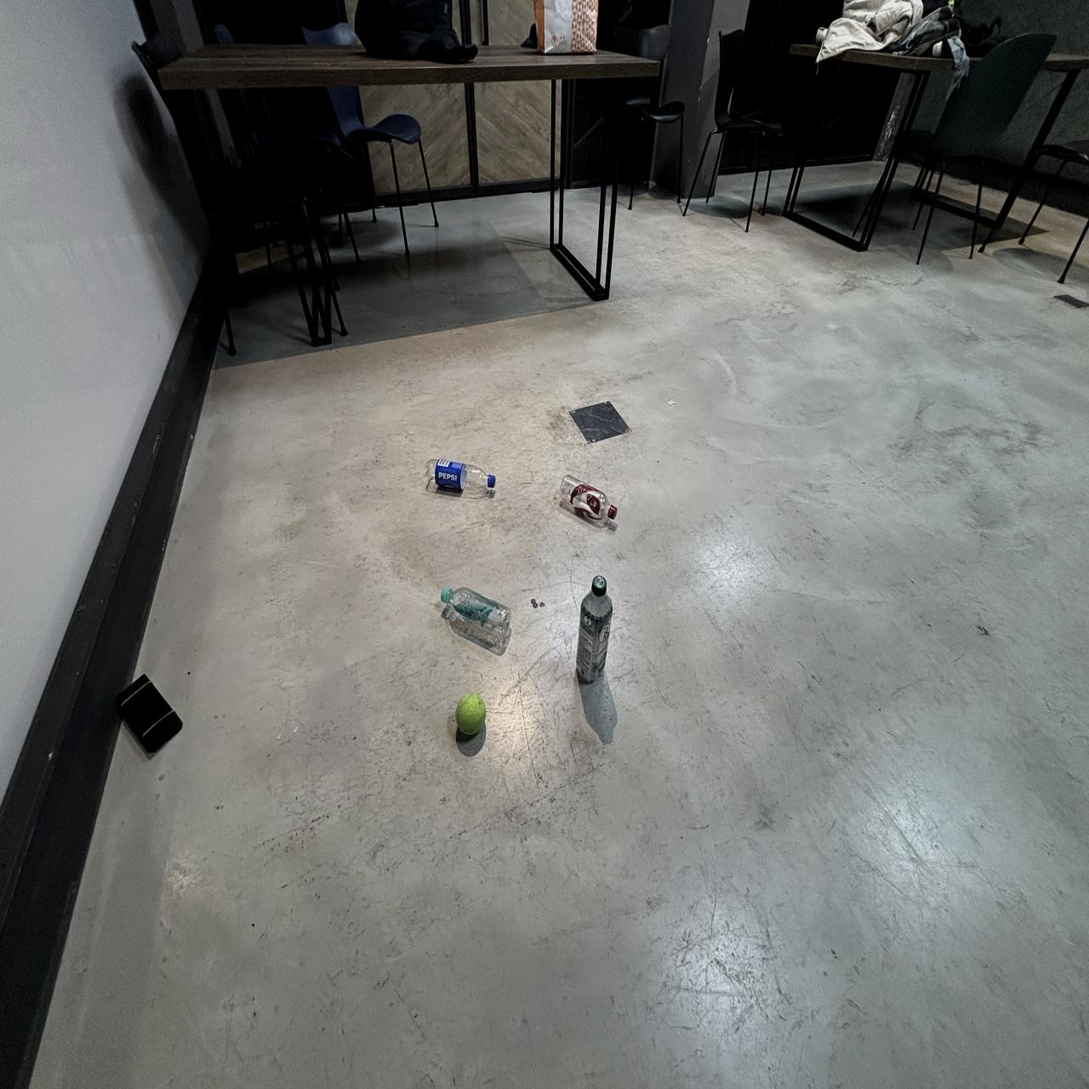plastic-bottle: (577, 576, 613, 682)
tennisball: (456, 693, 485, 735)
